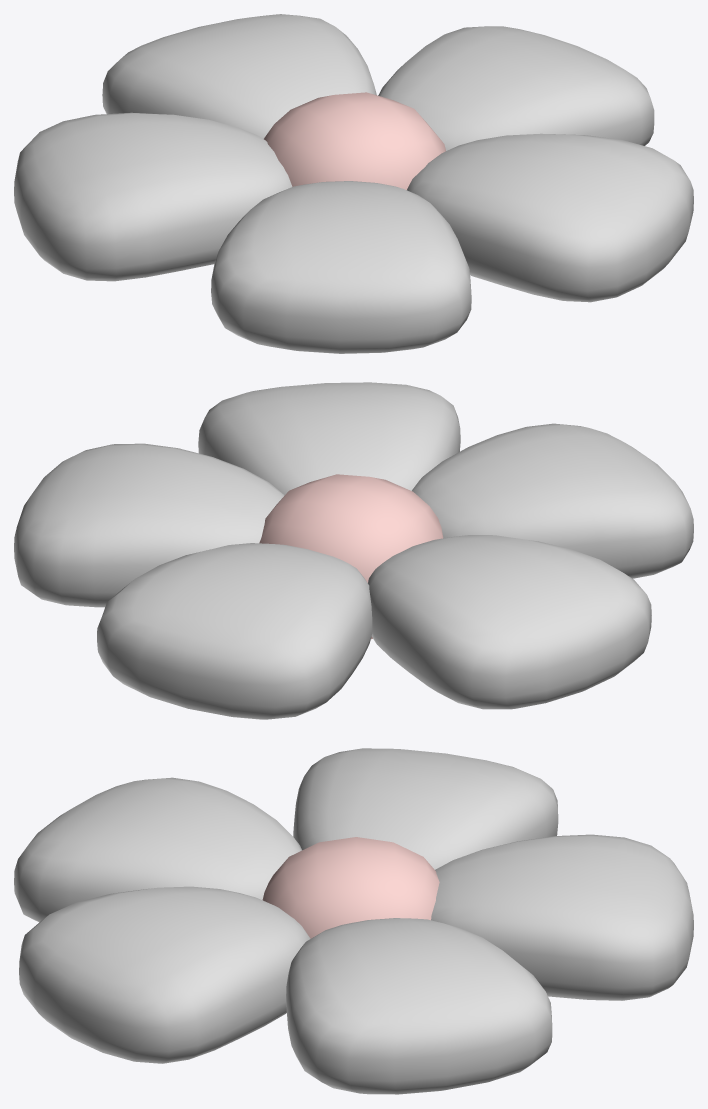
File: pillow1.glb
3 renders of one model, top to bottom at view 1: azimuth 30°, elevation 25°; view 2: azimuth 150°, elevation 25°; view 3: azimuth 270°, elevation 25°, orthographic.
Visible parts, largest first — view 1: Plane.004; view 2: Plane.004; view 3: Plane.004.
Part boxes in pixels (x1,y1,x2,y2): Plane.004: (14,14,693,353); Plane.004: (14,382,693,719); Plane.004: (14,748,693,1094).
Bounding box in the file's own units: 0.6435 × 0.1496 × 0.6333.
